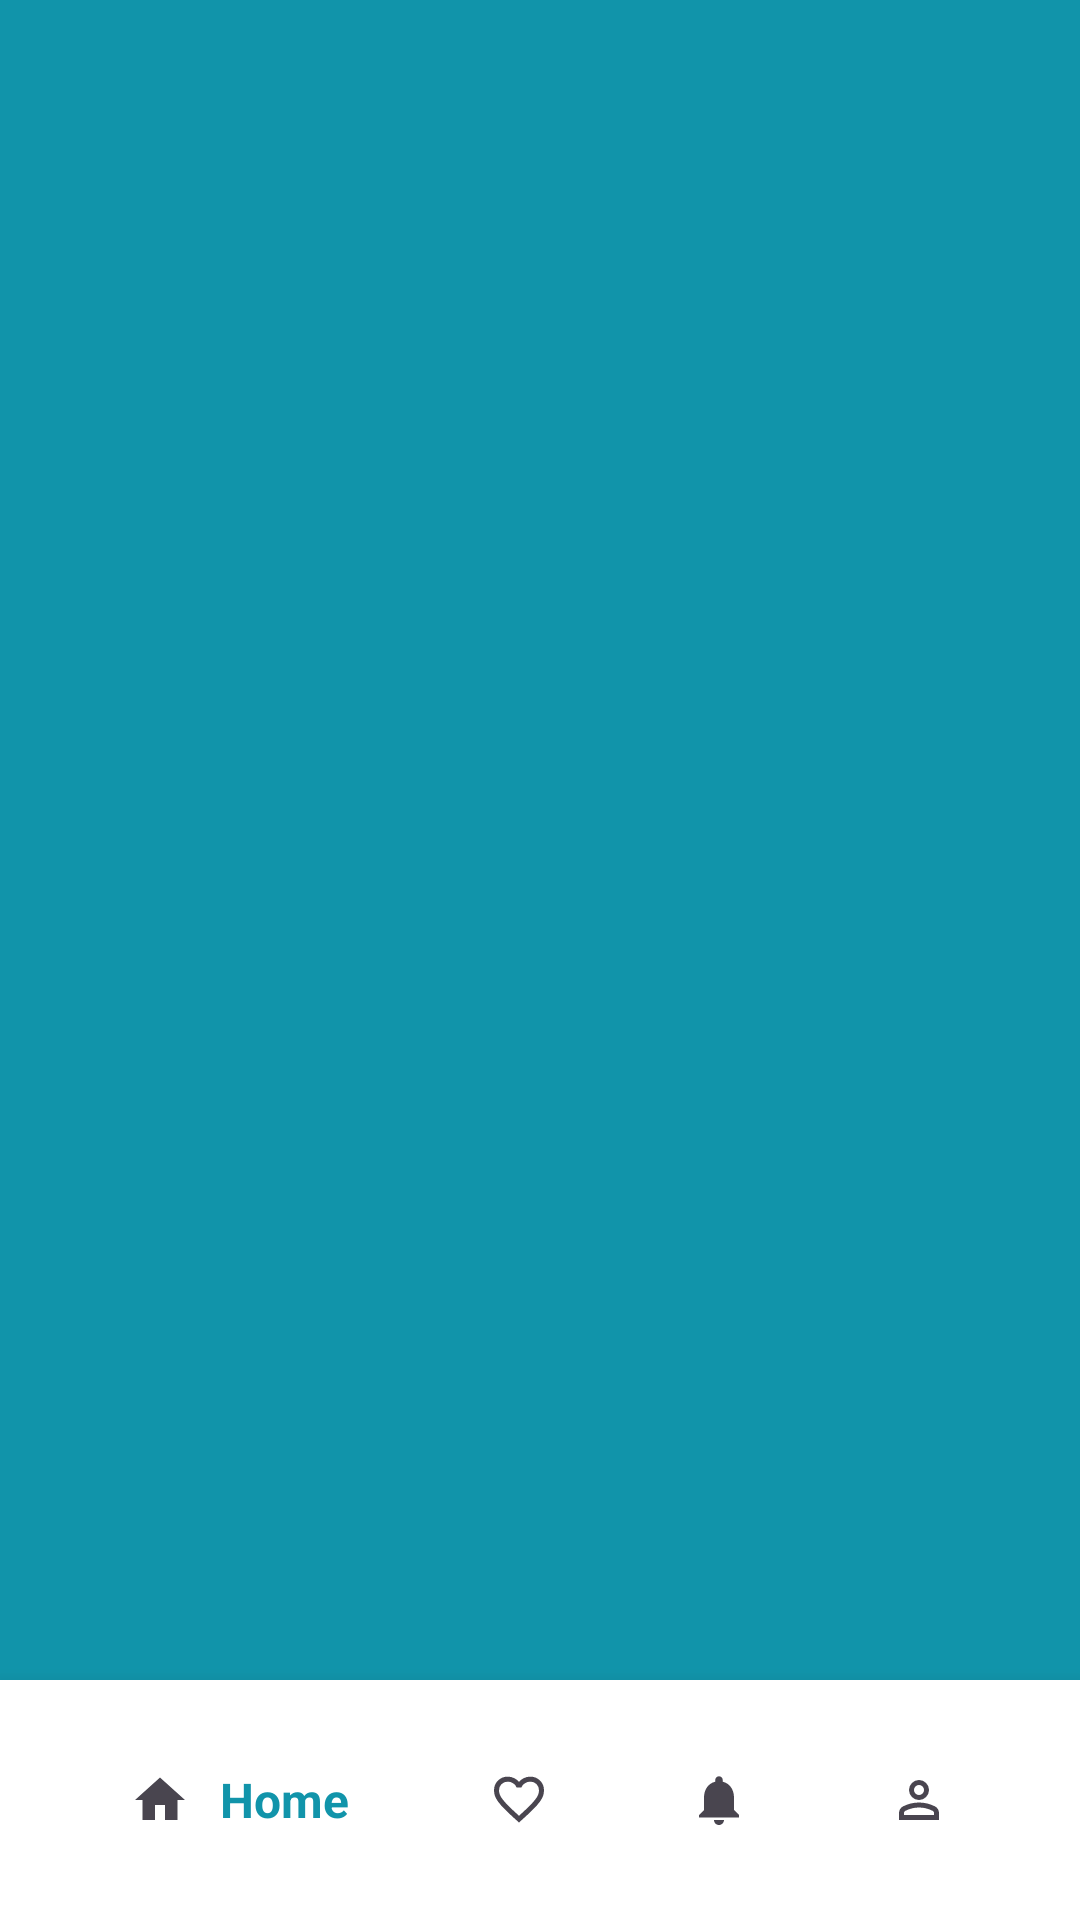

Where to tap for icons on this 1080w x 1920h app screen, as (x=x, y=y):
favorite: (x=519, y=1799)
notifications setected: (x=719, y=1800)
person: (x=919, y=1800)
